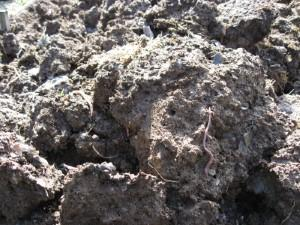earthworms: (199, 93, 218, 175)
